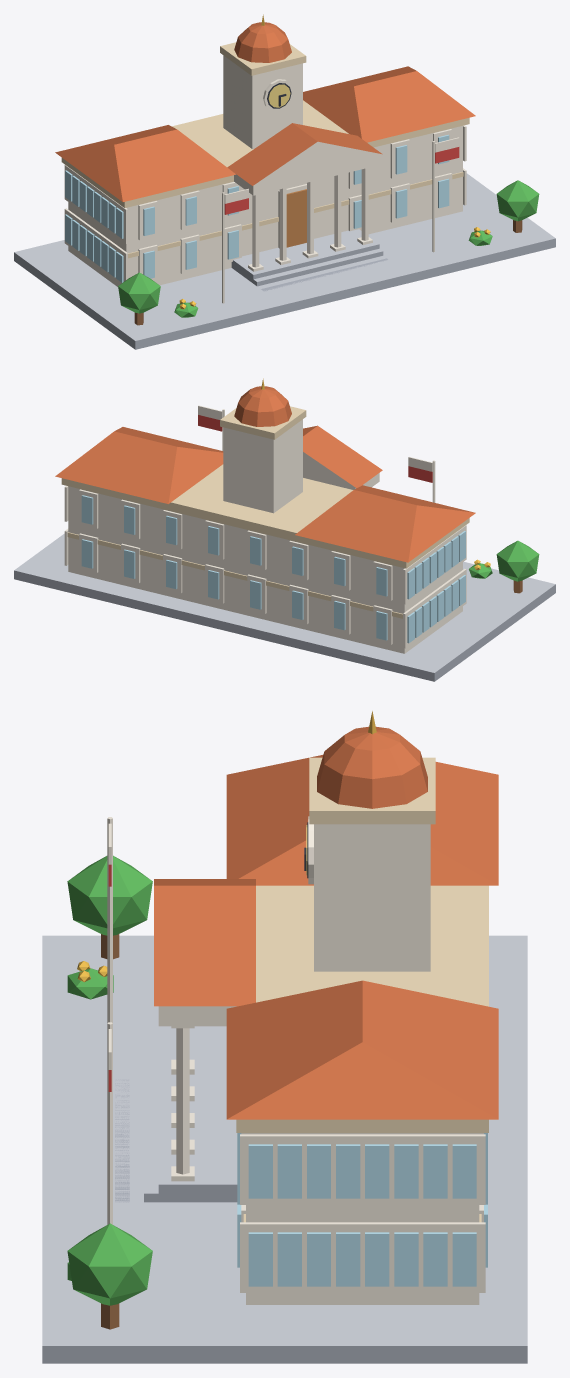
File: public_city_hall.glb
3 views of the same model, one above another, from view 1: azimuth 30°, elevation 25°; view 2: azimuth 150°, elevation 25°; view 3: azimuth 270°, elevation 25° (orthographic). The views are drawn at different scales.
Parts seen in each view (by area): view 1: public_city_hall; view 2: public_city_hall; view 3: public_city_hall.
Part boxes in pixels (<box>): public_city_hall: <box>14,14,555,349</box>; public_city_hall: <box>14,378,555,681</box>; public_city_hall: <box>42,711,527,1363</box>.
Size of the model in its own units: 2 by 1.02 by 1.
